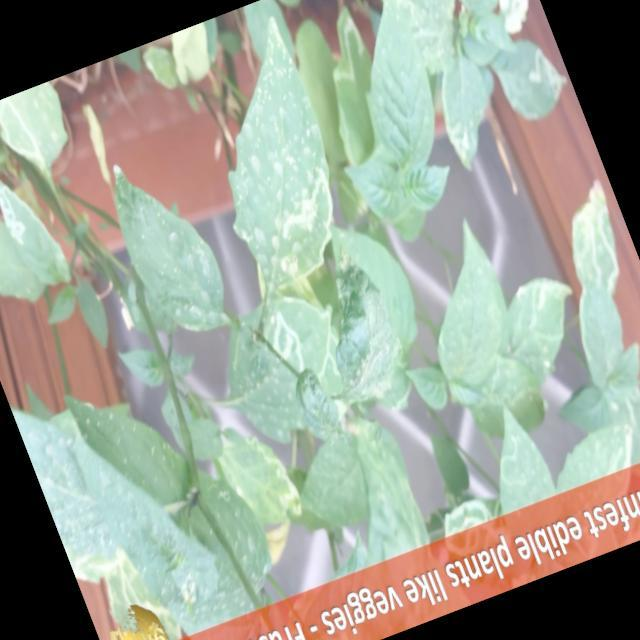Tomato target spot leaf: (166, 13, 371, 297), (11, 388, 134, 591), (294, 236, 418, 412), (296, 5, 406, 168), (252, 284, 360, 414), (208, 411, 308, 537), (423, 50, 522, 176), (493, 268, 598, 386), (545, 176, 640, 305), (465, 398, 559, 516), (0, 156, 75, 298), (488, 28, 576, 130), (0, 79, 83, 182), (0, 207, 51, 325), (468, 0, 548, 39)
